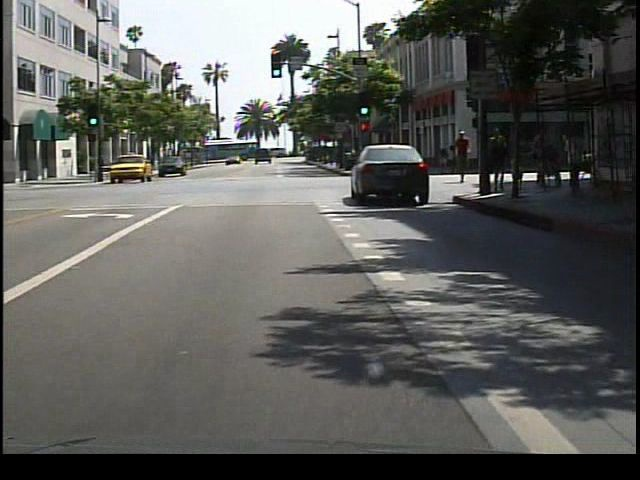person: (455, 130, 477, 190)
